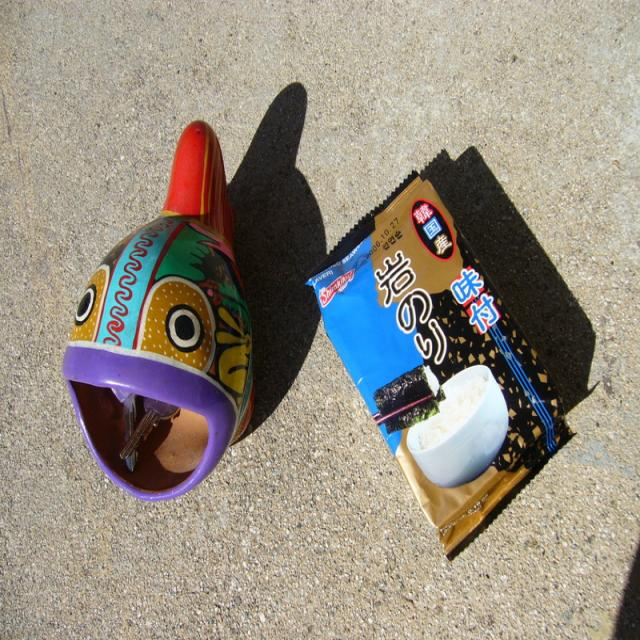packet: (308, 175, 571, 553)
